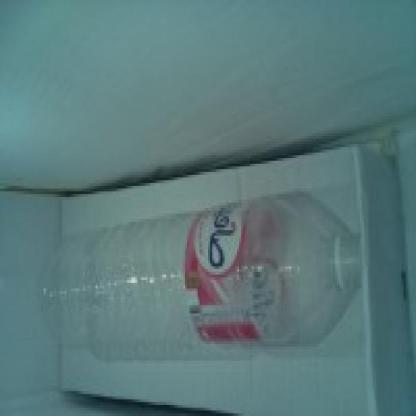Plastic Bottle: (25, 186, 378, 354)
